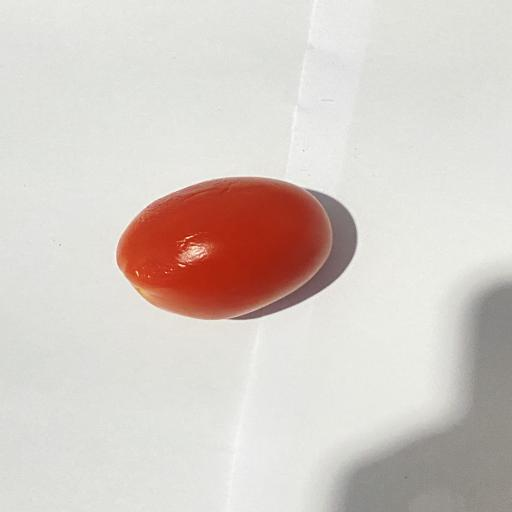spoiled: (117, 177, 332, 319)
